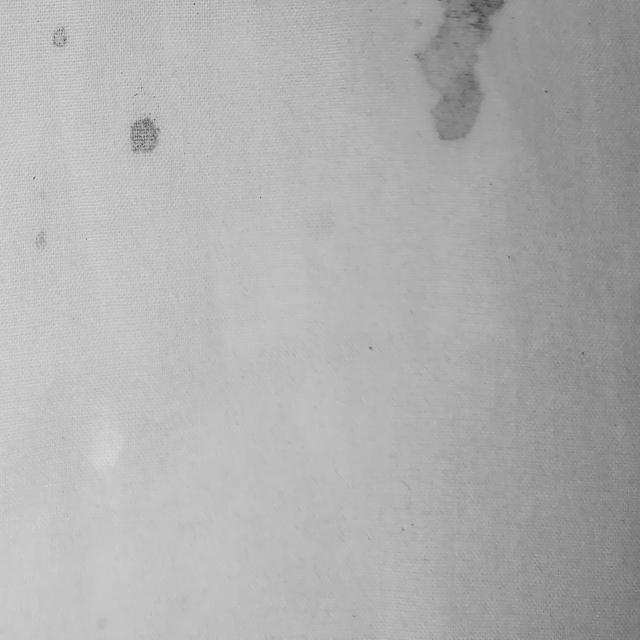Hole: (394, 0, 512, 172), (0, 158, 78, 298), (104, 99, 186, 167), (32, 16, 83, 60)
